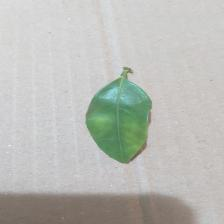greening: (81, 61, 159, 166)
